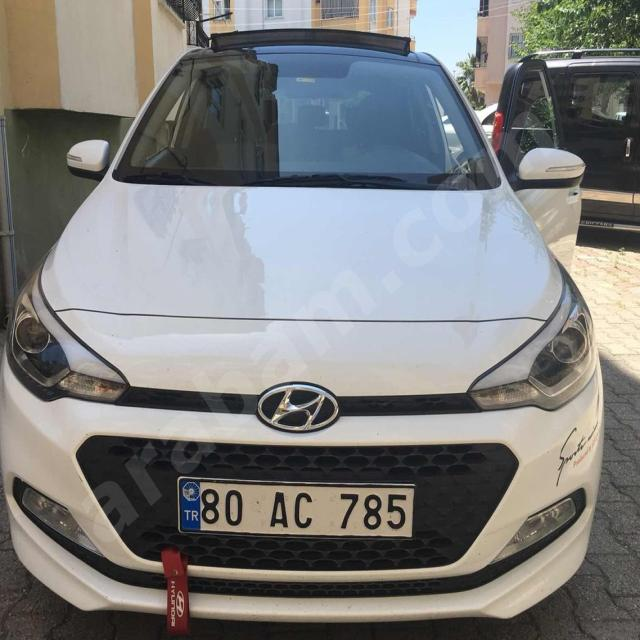license_plate: (177, 478, 415, 538)
